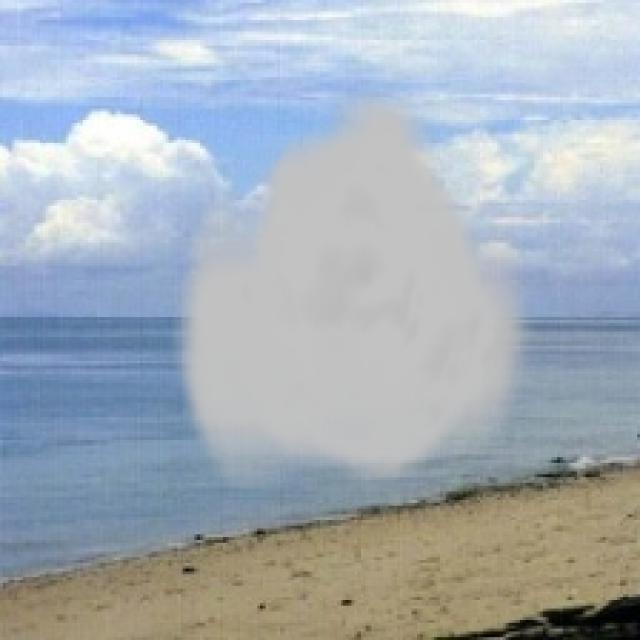Smoke: (171, 86, 540, 488)
